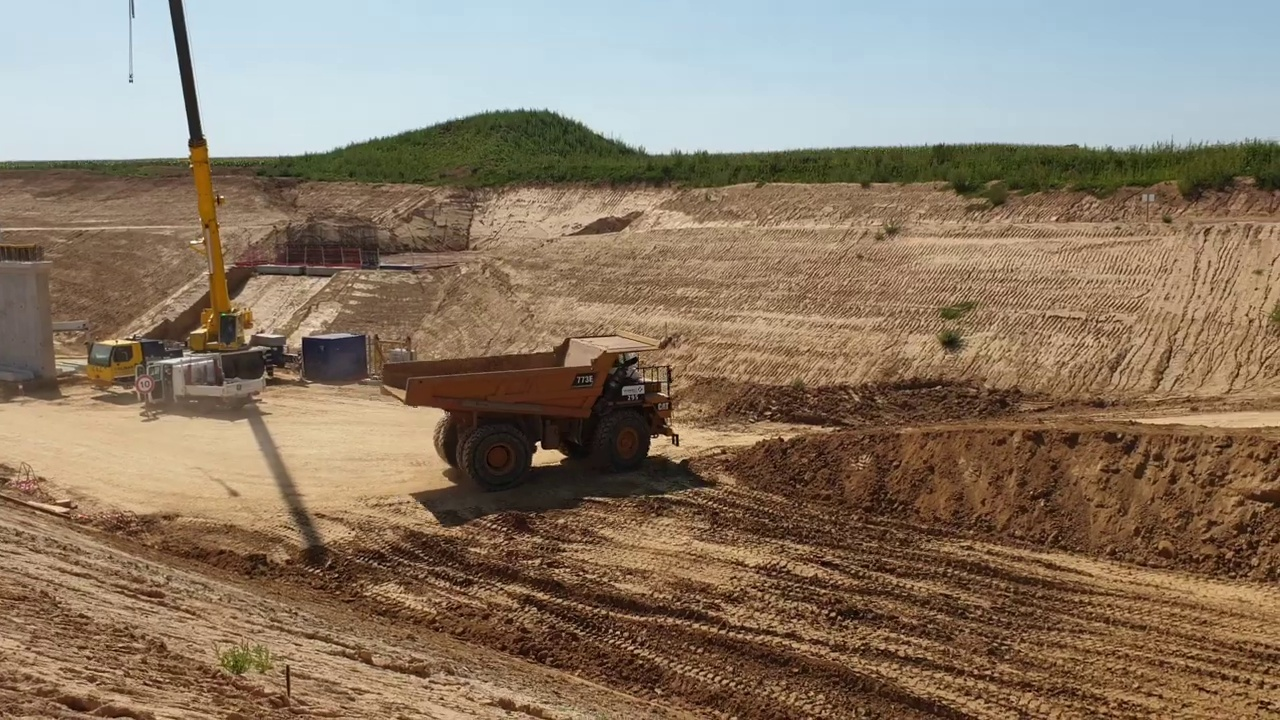crane: (83, 1, 292, 419)
truck: (374, 328, 683, 492)
